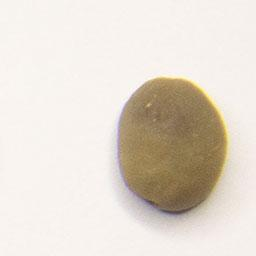premium: (115, 73, 230, 215)
